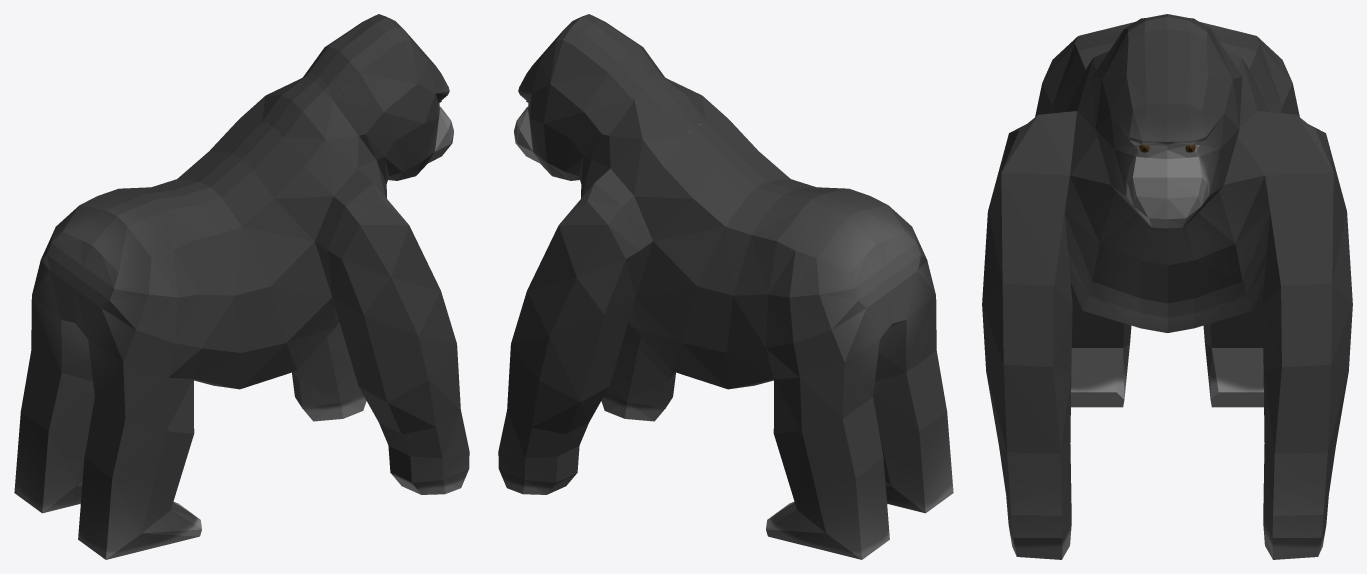
Rendered from Gorilla.fbx.
The picture shows the model from 3 angles, left to right: view 1: azimuth 30°, elevation 25°; view 2: azimuth 150°, elevation 25°; view 3: azimuth 270°, elevation 25°; orthographic projection. The views are drawn at different scales.
Parts seen in each view (by area): view 1: Plane; view 2: Plane; view 3: Plane.
Part boxes in pixels (<box>): Plane: <box>14,14,469,559</box>; Plane: <box>498,14,953,559</box>; Plane: <box>982,14,1352,559</box>.
Size of the model in its own units: 179 by 190 by 120.
Materials: 1 (1 with a texture image).
